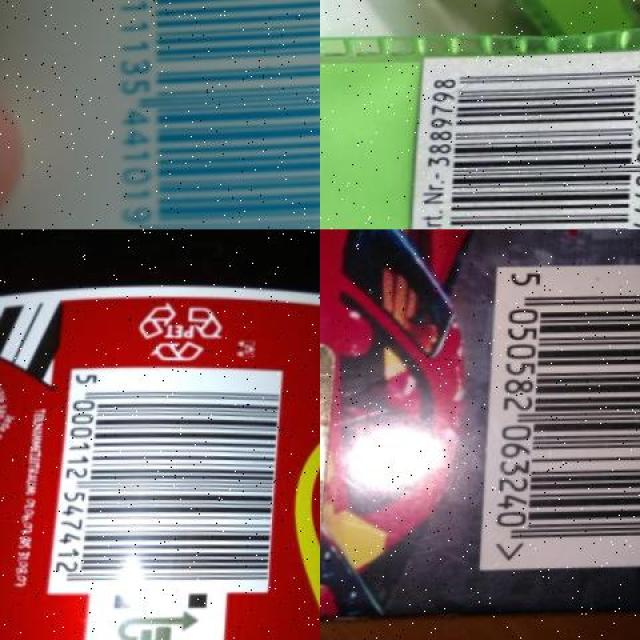Barcode: (51, 365, 285, 596), (96, 0, 320, 229), (485, 264, 640, 571), (413, 49, 640, 230)
